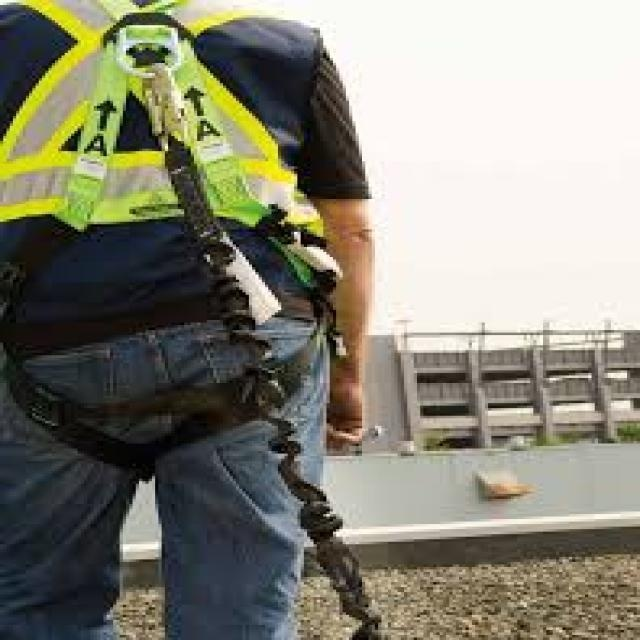Arnes_seguridad: (45, 0, 262, 234)
